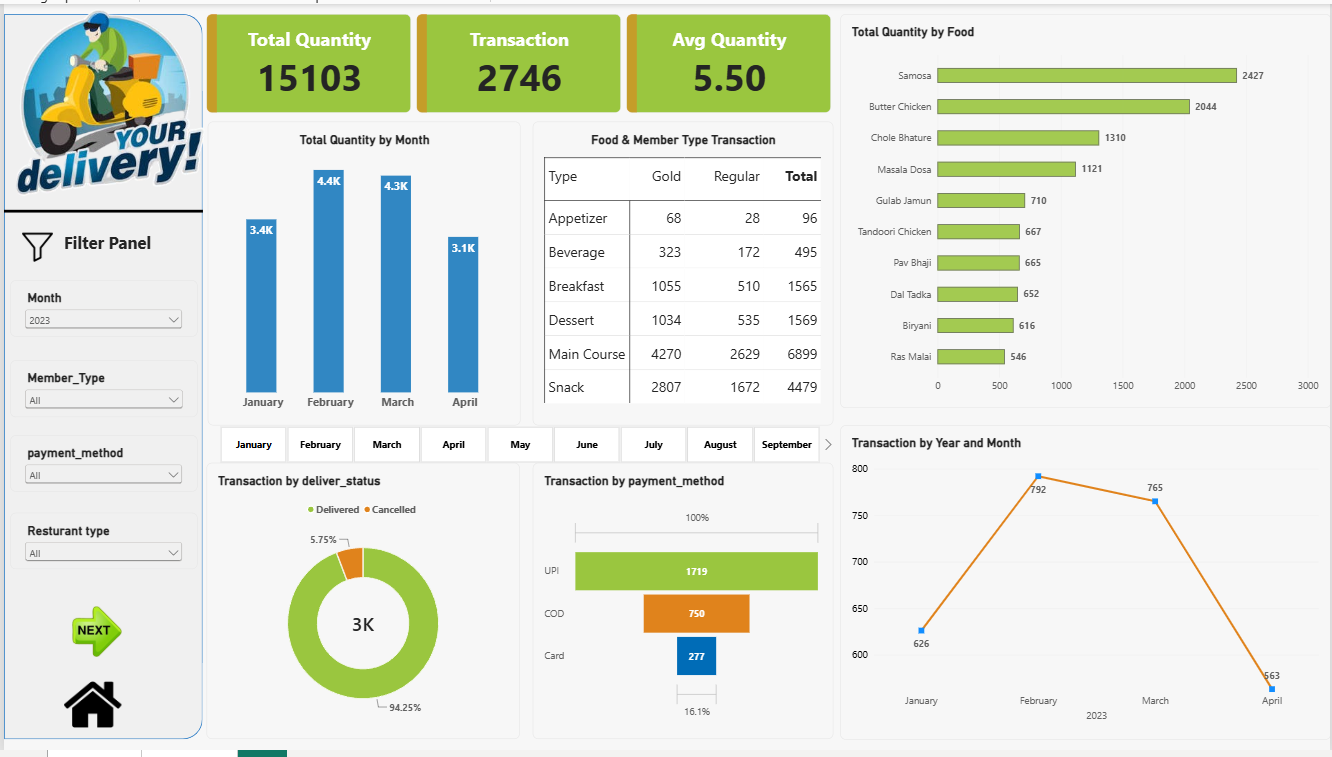

The dashboard page shown, as its layout file describes it:
{"tool":"powerbi","page":{"name":"Page 1","canvas":[1920,1080],"ordinal":0},"visuals":[{"type":"shape","box":[0,15,287.5,1050],"z":0},{"type":"image","box":[0,4.5,294.5,330.9],"z":1000},{"type":"shape","box":[0,283.3,288.3,31.7],"z":2000},{"type":"cardVisual","fields":{"Data":["NEW DATA.Total Quantity","NEW DATA.Transaction","NEW DATA.Avg Quantity"]},"box":[293.3,15,906.7,148.3],"z":3000},{"type":"clusteredColumnChart","fields":{"Category":["NEW DATA.orderDate.Variation.Date Hierarchy.Month"],"Y":["NEW DATA.Total Quantity"]},"box":[294.3,170,452.9,440],"z":4000},{"type":"pivotTable","title":"Food & Member Type Transaction","fields":{"Columns":["Customer Details.member_Type"],"Rows":["Food_Details.Type"],"Values":["NEW DATA.Total Quantity"]},"box":[765,170,435,440],"z":5000},{"type":"donutChart","fields":{"Category":["NEW DATA.deliver_status"],"Y":["NEW DATA.Transaction"]},"box":[293.8,665,453.8,400],"z":6000},{"type":"funnel","fields":{"Category":["NEW DATA.payment_method"],"Y":["NEW DATA.Transaction"]},"box":[765,665,435,400],"z":7000},{"type":"clusteredBarChart","fields":{"Category":["Food_Details.Food"],"Y":["NEW DATA.Total Quantity"]},"box":[1210,15,710,570],"z":8000},{"type":"lineChart","fields":{"Category":["NEW DATA.orderDate.Variation.Date Hierarchy.Year","NEW DATA.orderDate.Variation.Date Hierarchy.Month"],"Y":["NEW DATA.Transaction"]},"box":[1210,610,710,455],"z":9000},{"type":"slicer","fields":{"Values":["NEW DATA.orderDate.Variation.Date Hierarchy.Year","NEW DATA.orderDate.Variation.Date Hierarchy.Month"]},"box":[8.8,400,270.9,81.8],"z":10000},{"type":"slicer","fields":{"Values":["Customer Details.member_Type"]},"box":[8.8,515,271,82],"z":11000},{"type":"slicer","fields":{"Values":["NEW DATA.payment_method"]},"box":[8.8,625,270.8,81.7],"z":12000},{"type":"slicer","fields":{"Values":["Resturant_Details.Resturant_type"]},"box":[8.8,736.2,270.8,81.7],"z":13000},{"type":"slicer","fields":{"Values":["NEW DATA.orderDate.Variation.Date Hierarchy.Month"]},"box":[293.6,610,906.4,55.5],"z":14000},{"type":"image","box":[17.5,330,60.9,45.5],"z":14001},{"type":"textbox","box":[86.7,330,192.5,75],"z":14002},{"type":"image","box":[87,971,83,85],"z":14003},{"type":"image","box":[66.2,872.3,135.4,73.1],"z":14004}]}

Visuals, with their boxes in screenshot pixels (x1, y1, x2, y2), scaled from the page's 1920x1080 canvas onto the 1332x757 screenshot:
shape: detection(0, 11, 199, 746)
image: detection(0, 3, 204, 235)
shape: detection(0, 199, 200, 221)
cardVisual - NEW DATA.Total Quantity x NEW DATA.Transaction: detection(203, 11, 832, 114)
clusteredColumnChart - NEW DATA.orderDate.Variation.Date Hierarchy.Month x NEW DATA.Total Quantity: detection(204, 119, 518, 428)
"Food & Member Type Transaction" pivotTable: detection(531, 119, 832, 428)
donutChart - NEW DATA.deliver_status x NEW DATA.Transaction: detection(204, 466, 519, 746)
funnel - NEW DATA.payment_method x NEW DATA.Transaction: detection(531, 466, 832, 746)
clusteredBarChart - Food_Details.Food x NEW DATA.Total Quantity: detection(839, 11, 1331, 410)
lineChart - NEW DATA.orderDate.Variation.Date Hierarchy.Year x NEW DATA.orderDate.Variation.Date Hierarchy.Month: detection(839, 428, 1331, 746)
slicer - NEW DATA.orderDate.Variation.Date Hierarchy.Year x NEW DATA.orderDate.Variation.Date Hierarchy.Month: detection(6, 280, 194, 338)
slicer - Customer Details.member_Type: detection(6, 361, 194, 418)
slicer - NEW DATA.payment_method: detection(6, 438, 194, 495)
slicer - Resturant_Details.Resturant_type: detection(6, 516, 194, 573)
slicer - NEW DATA.orderDate.Variation.Date Hierarchy.Month: detection(204, 428, 832, 466)
image: detection(12, 231, 54, 263)
textbox: detection(60, 231, 194, 284)
image: detection(60, 681, 118, 740)
image: detection(46, 611, 140, 663)
